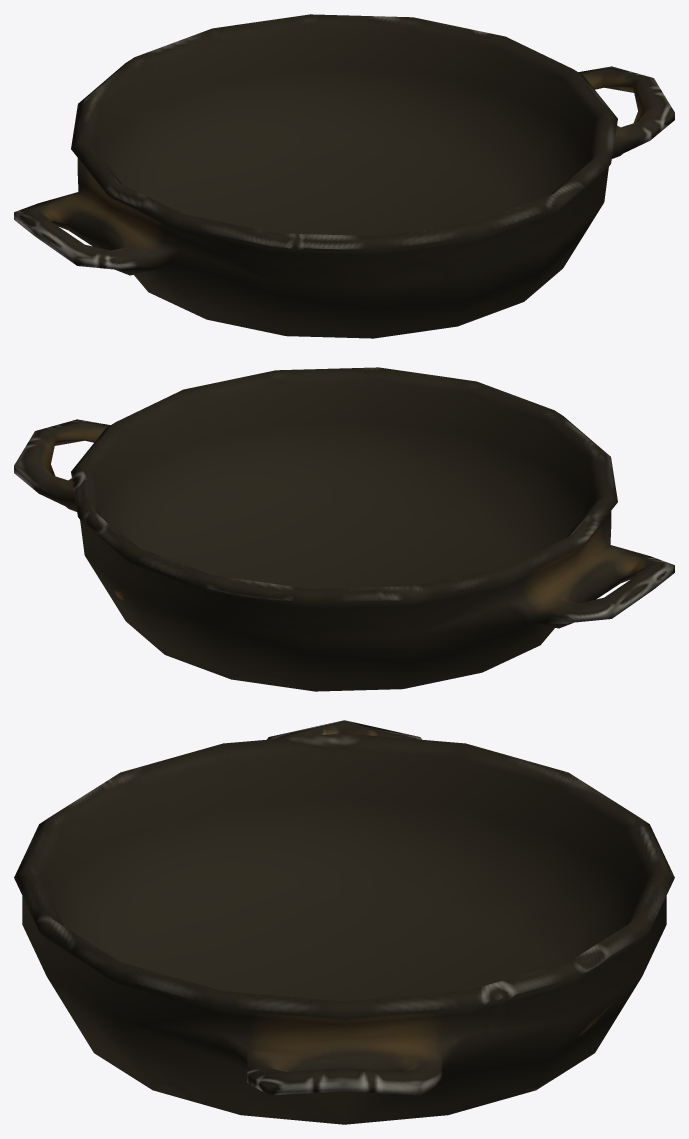
Rendered from Pan_B.fbx.
The picture shows the model from 3 angles, top to bottom: view 1: azimuth 30°, elevation 25°; view 2: azimuth 150°, elevation 25°; view 3: azimuth 270°, elevation 25°; orthographic projection. The views are drawn at different scales.
Visible parts, largest first — view 1: U_Pan_B; view 2: U_Pan_B; view 3: U_Pan_B.
Boxes of the visible parts, x1,y1,x2,y2 form: U_Pan_B: [14, 14, 674, 338]; U_Pan_B: [14, 367, 674, 691]; U_Pan_B: [14, 720, 674, 1124].
Bounding box in the file's own units: 71.56 × 13.6 × 55.24.
Materials: 1 (1 with a texture image).
